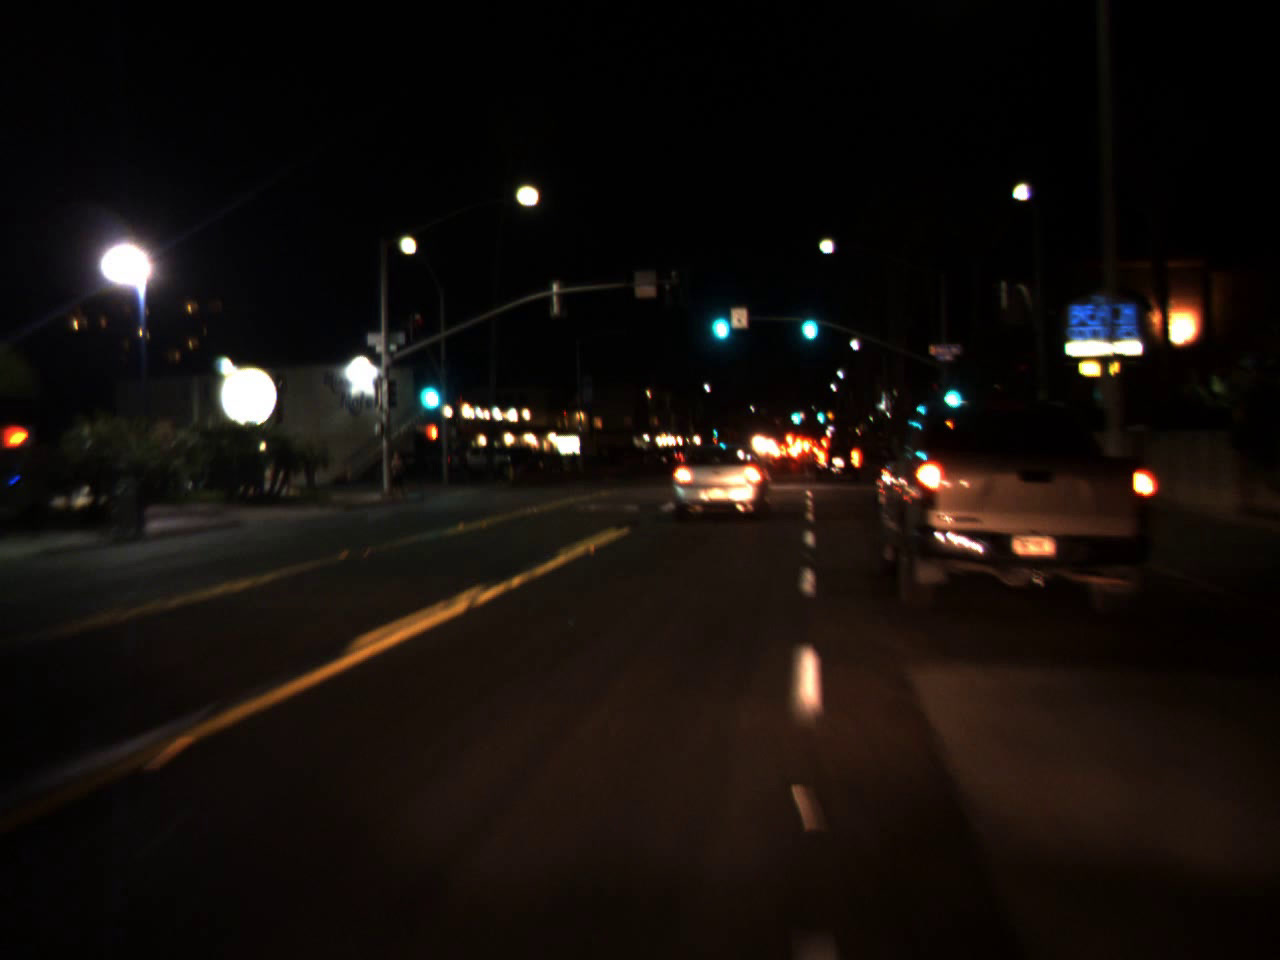go: (411, 358, 445, 418), (705, 290, 733, 347), (935, 372, 967, 414), (796, 297, 821, 345), (788, 399, 802, 429), (815, 402, 825, 426)
